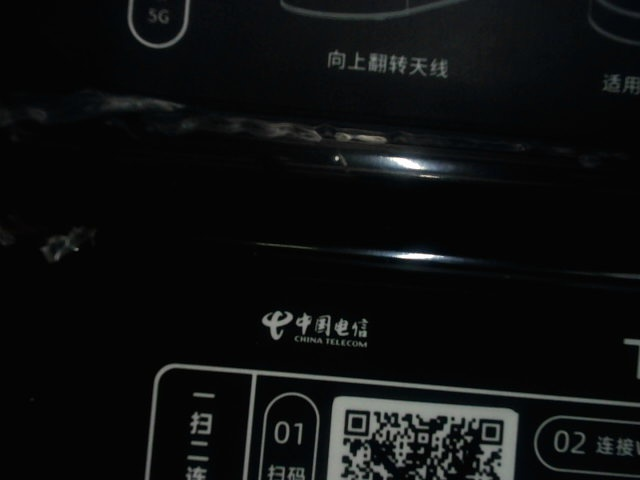AB_ChinaTelecom: (248, 299, 377, 350)
